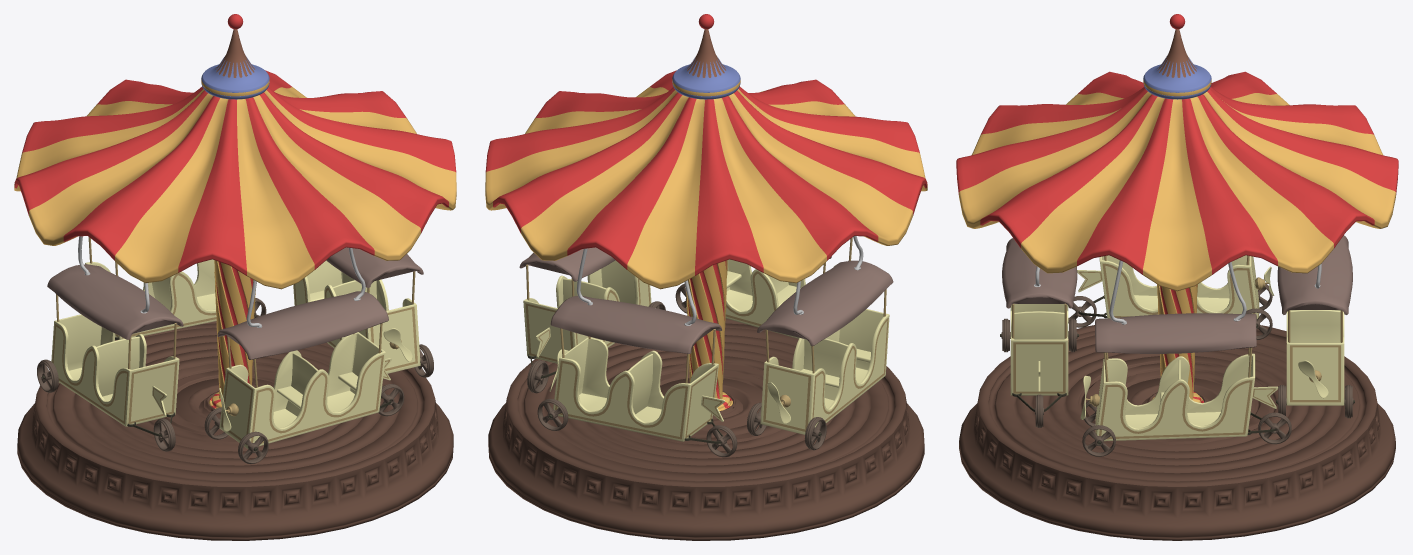
File: Carousel.fbx
The picture shows the model from 3 angles, left to right: view 1: azimuth 30°, elevation 25°; view 2: azimuth 150°, elevation 25°; view 3: azimuth 270°, elevation 25°; orthographic projection.
Parts seen in each view (by area): view 1: Canopy, Base, Box011, Box001, Box013, Box003, Box008, Column, Box005, Topper, Box010, Cylinder016 (+2 smaller); view 2: Canopy, Base, Box005, Box001, Box003, Box007, Box008, Column, Box011, Topper, Box010, Cylinder004 (+3 smaller); view 3: Canopy, Base, Box008, Box010, Box011, Box005, Box001, Box007, Box013, Topper, Column, Cylinder012 (+5 smaller).
Boxes of the visible parts, box(x1,y1,x2,y2) form: Canopy: box(14, 70, 456, 289); Base: box(17, 321, 453, 540); Box011: box(219, 332, 391, 448); Box001: box(51, 314, 179, 426); Box013: box(217, 291, 388, 359); Box003: box(47, 264, 183, 339); Box008: box(293, 260, 420, 373); Column: box(208, 260, 255, 408); Box005: box(85, 259, 216, 339); Topper: box(201, 29, 269, 99); Box010: box(326, 247, 423, 287); Cylinder016: box(204, 407, 268, 464); Canopy: box(485, 70, 927, 289); Base: box(488, 318, 924, 540); Box005: box(553, 337, 724, 441); Box001: box(760, 309, 889, 434); Box003: box(757, 260, 893, 346); Box007: box(550, 296, 721, 353); Box008: box(523, 260, 651, 363); Column: box(686, 260, 732, 410); Box011: box(725, 259, 836, 338); Topper: box(672, 29, 740, 99); Box010: box(519, 247, 615, 281); Cylinder004: box(747, 402, 826, 450); Canopy: box(956, 71, 1398, 291); Base: box(959, 325, 1395, 540); Box008: box(1095, 353, 1278, 441); Box010: box(1095, 313, 1256, 353); Box011: box(1010, 304, 1068, 395); Box005: box(1286, 310, 1344, 405); Box001: box(1077, 255, 1259, 318); Box007: box(1277, 235, 1352, 314); Box013: box(1002, 238, 1077, 308); Topper: box(1143, 29, 1211, 99); Column: box(1152, 284, 1203, 403); Cylinder012: box(1082, 400, 1115, 456).
Bounding box in the file's own units: 1771 × 1961 × 1771.
